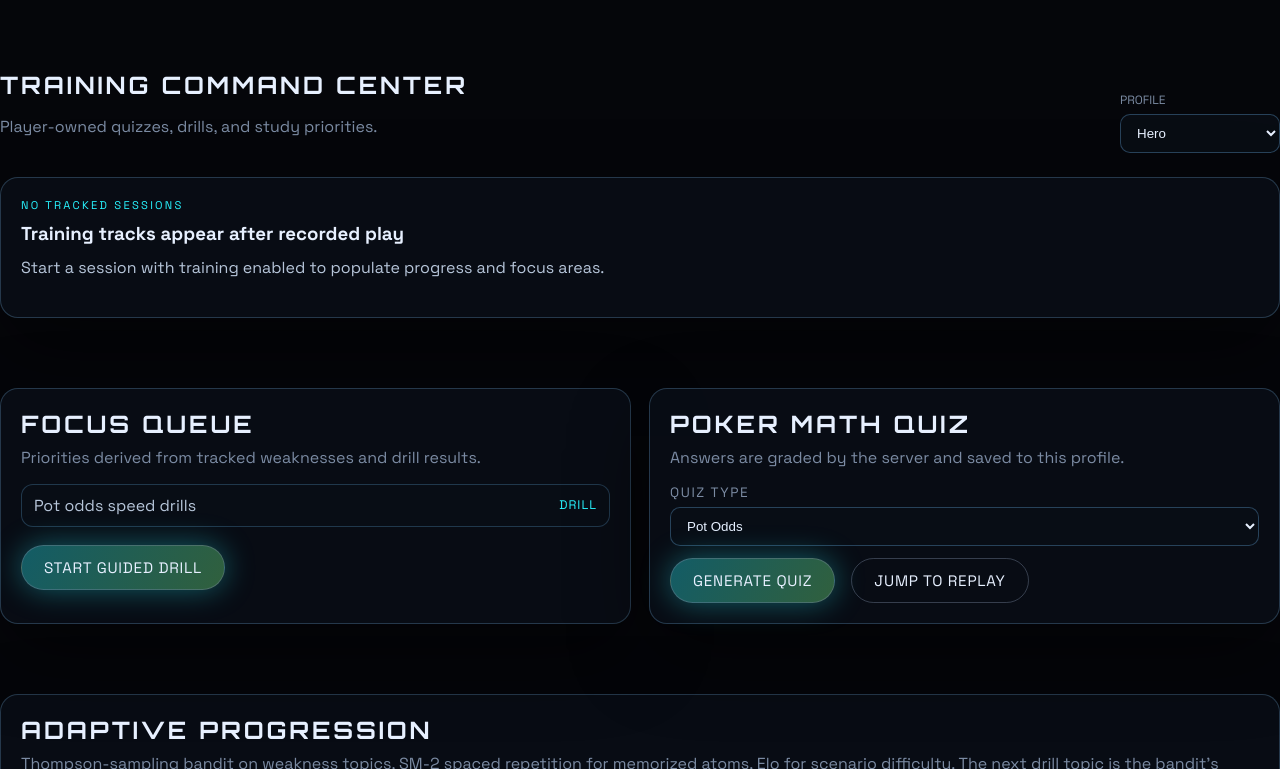
Training page › submits quiz answers by server-owned quiz id
Click the button "Generate Quiz" at {"x": 753, "y": 580}, box [670,558,835,603]
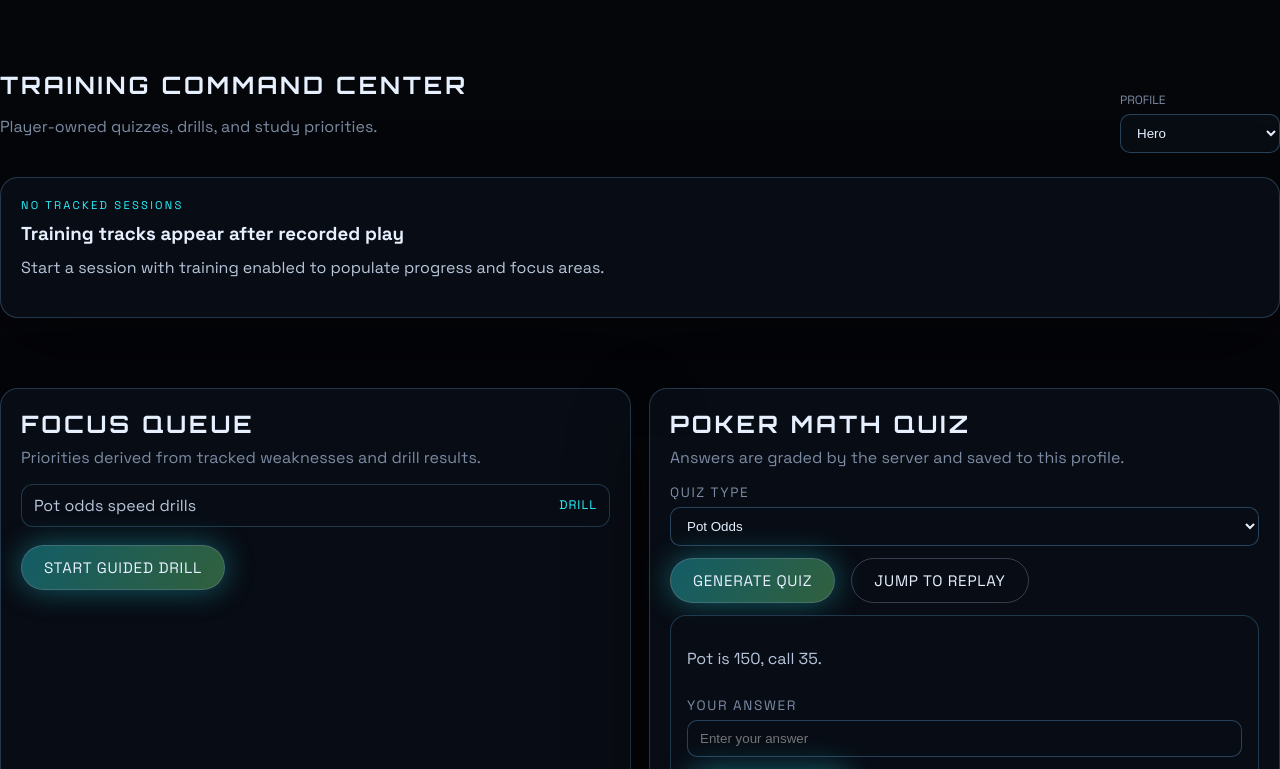
Now the text "Pot is 150, call 35." is shown, box [687,648,822,669]
Type "19" into the number field at {"x": 964, "y": 738}, box [687,720,1242,757]
(page scrolled)
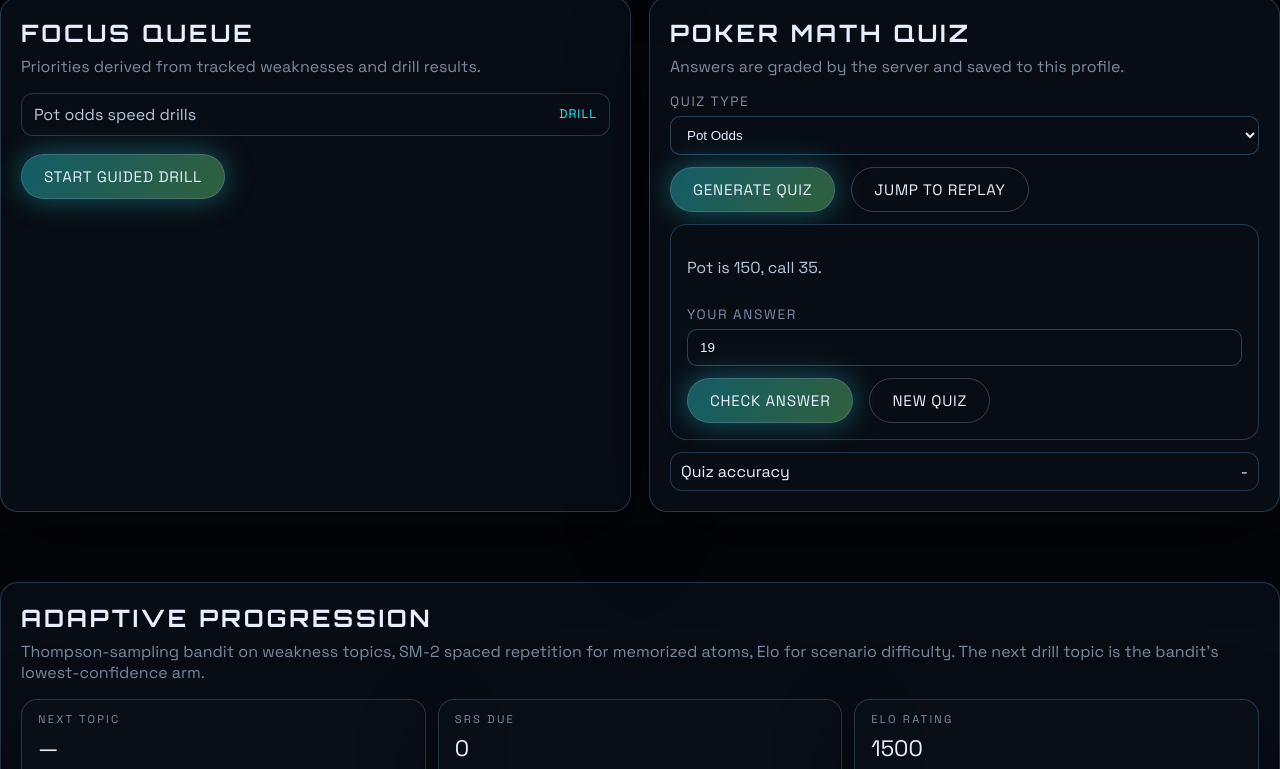
Click the button "Check Answer" at {"x": 770, "y": 400}, box [687,378,854,423]
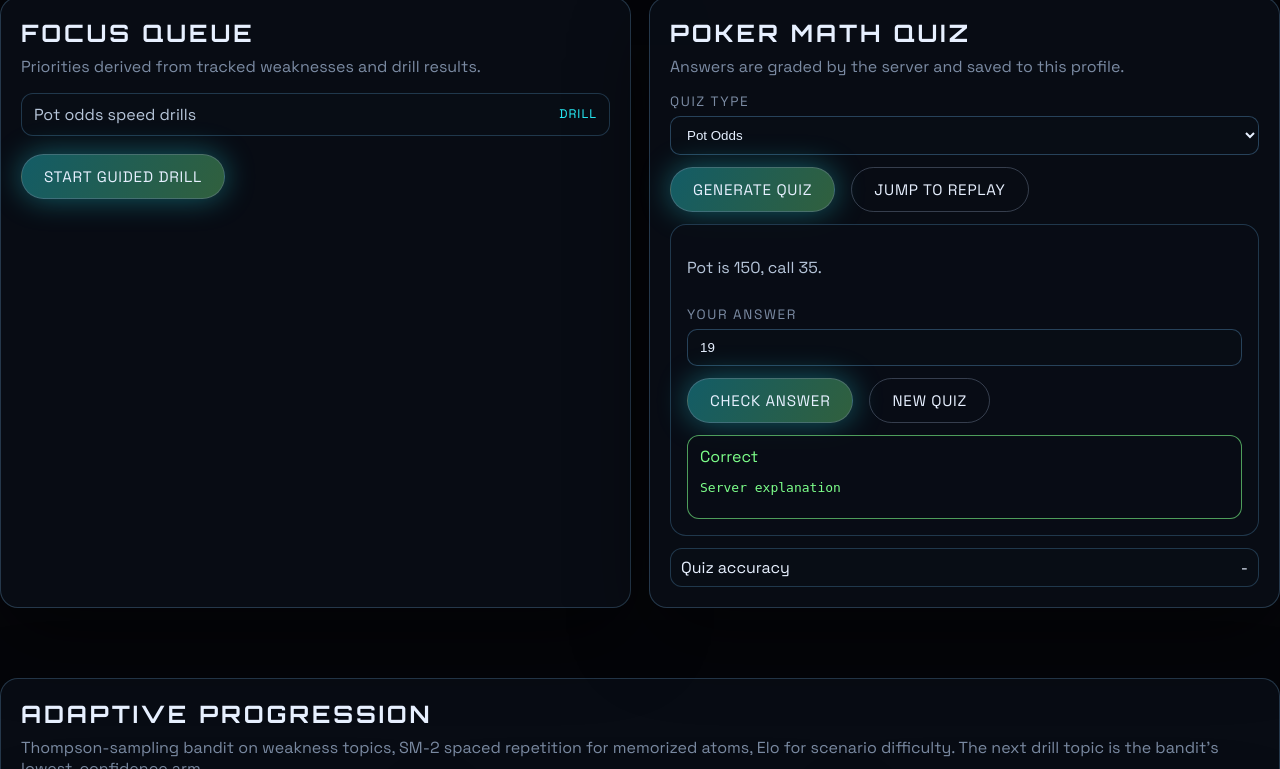
Now the text "Server explanation" is shown, box [700,480,841,495]
